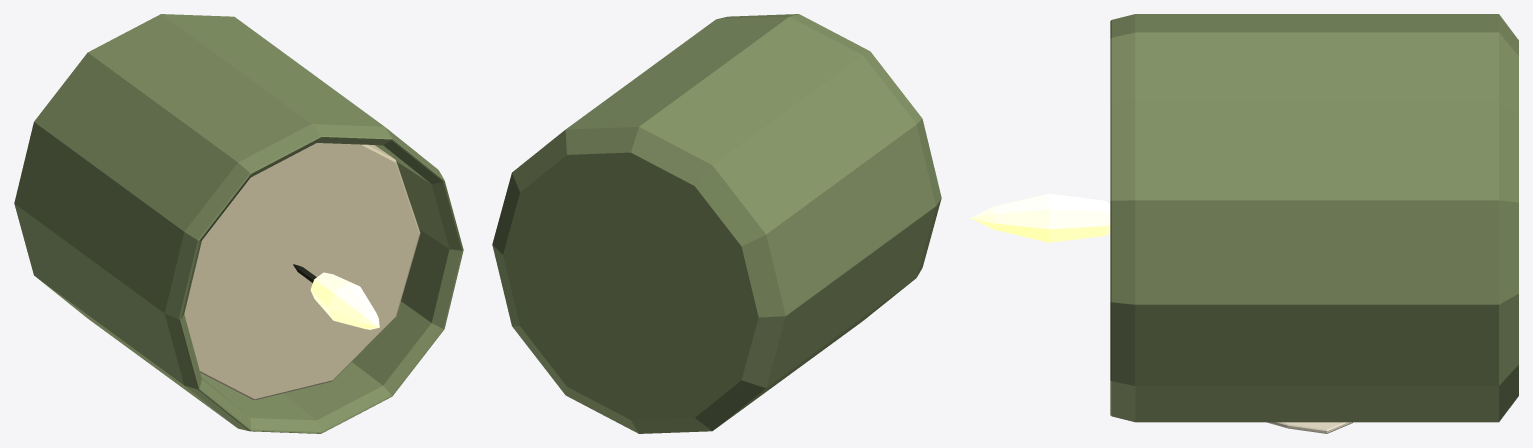
Rendered from candle.glb.
The picture shows the model from 3 angles, left to right: view 1: azimuth 30°, elevation 25°; view 2: azimuth 150°, elevation 25°; view 3: azimuth 270°, elevation 25°; orthographic projection. The views are drawn at different scales.
Visible parts, largest first — view 1: candle; view 2: candle; view 3: candle.
Boxes of the visible parts, left/top/right/bottom form: candle: left=14, top=14, right=463, bottom=433; candle: left=492, top=14, right=941, bottom=433; candle: left=970, top=14, right=1518, bottom=433.
Size of the model in its own units: 0.062 by 0.0634 by 0.083.
